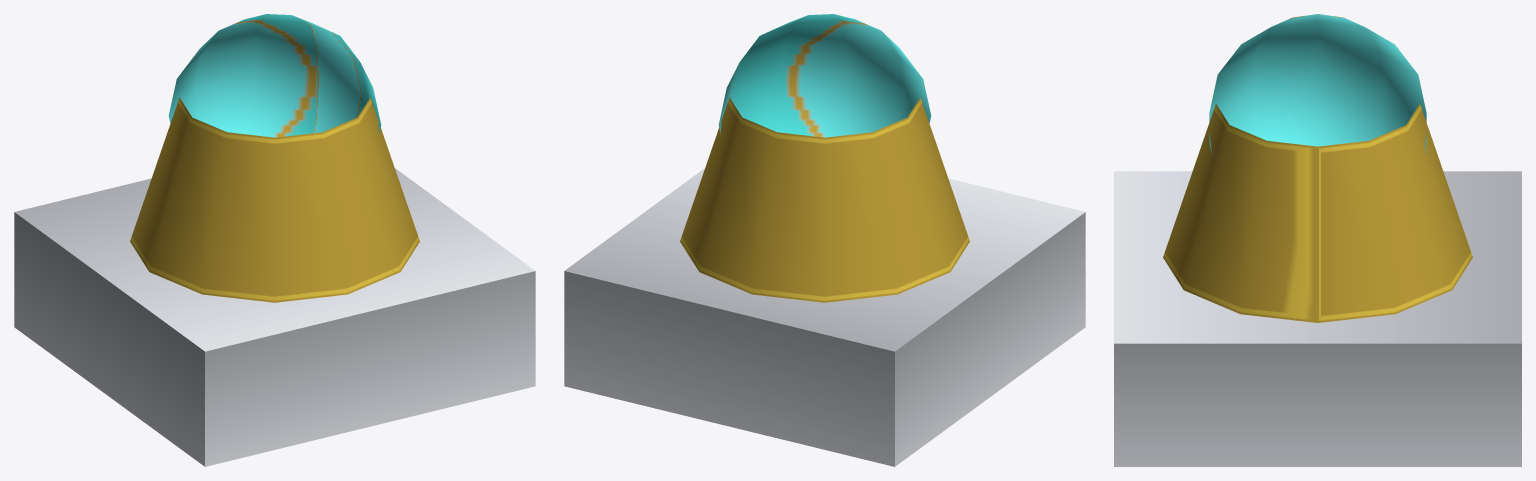
Rendered from market_astro_dial.glb.
3 renders of one model, left to right at view 1: azimuth 30°, elevation 25°; view 2: azimuth 150°, elevation 25°; view 3: azimuth 270°, elevation 25°, orthographic. The views are drawn at different scales.
Parts seen in each view (by area): view 1: market_astro_dial; view 2: market_astro_dial; view 3: market_astro_dial.
Boxes of the visible parts, x1,y1,x2,y2 form: market_astro_dial: [14, 14, 535, 466]; market_astro_dial: [564, 14, 1085, 466]; market_astro_dial: [1114, 14, 1521, 466].
Size of the model in its own units: 1.8 by 1.73 by 1.8.
1 material, 1 textured.
